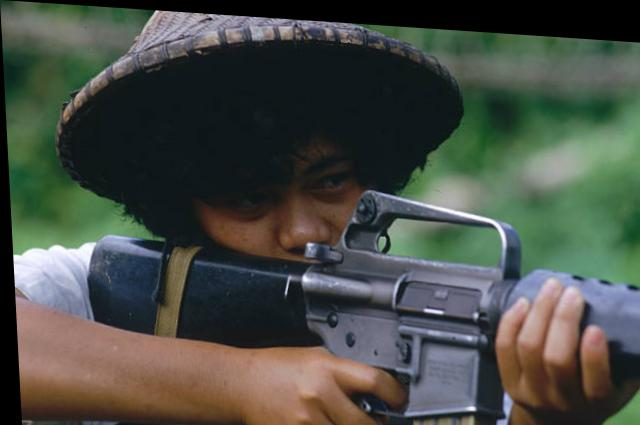other: (0, 0, 477, 424)
